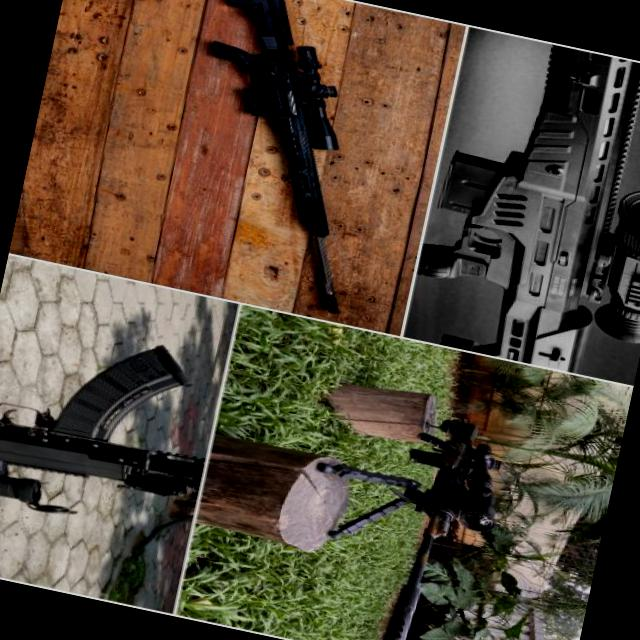long weapon: (144, 0, 406, 315), (295, 358, 537, 639)
